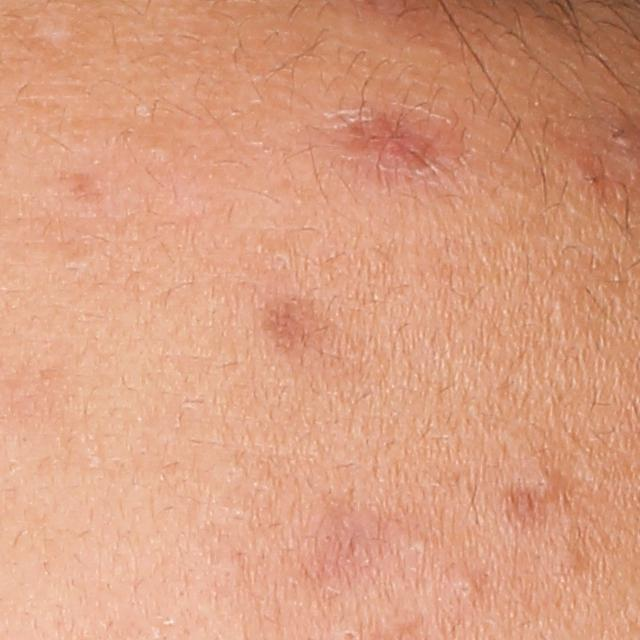comedo: (525, 462, 573, 509), (544, 540, 590, 580), (445, 570, 488, 608), (149, 138, 176, 166)
